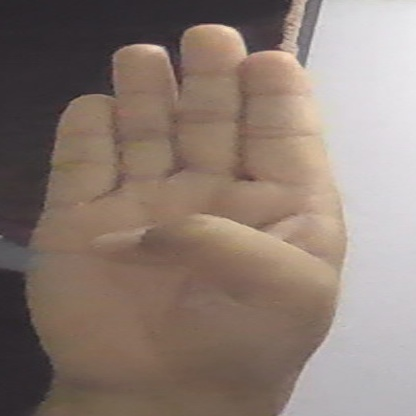B: (28, 24, 344, 402)
